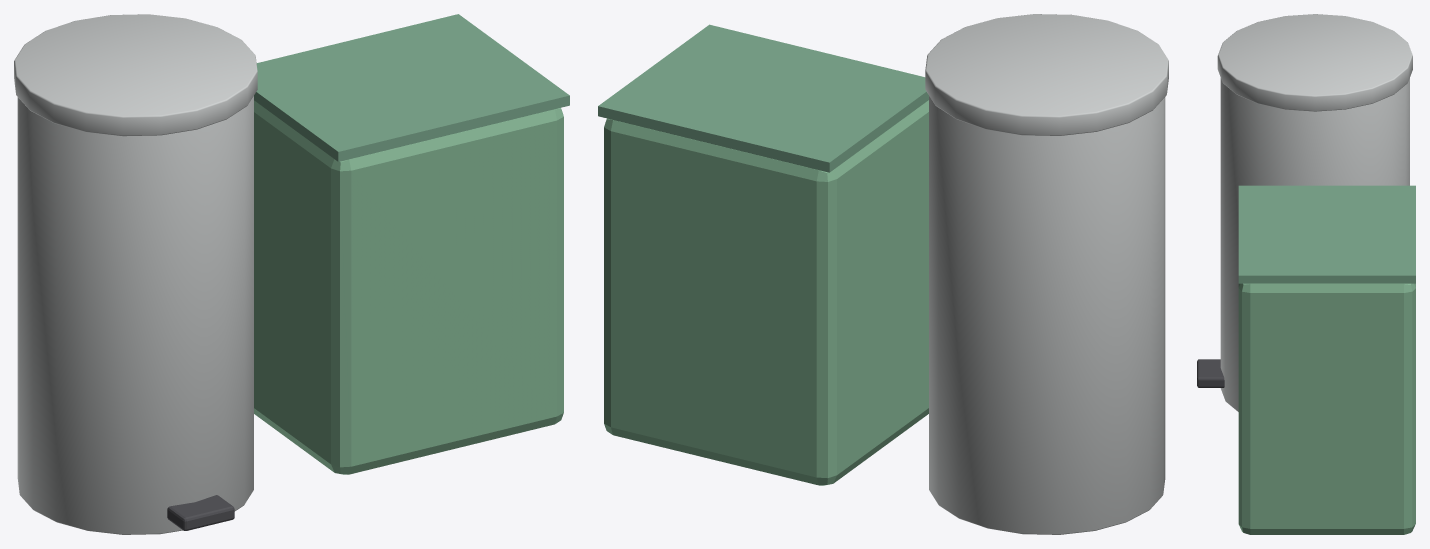
The model's file is v2_kitchen_bins.fbx.
3 renders of one model, left to right at view 1: azimuth 30°, elevation 25°; view 2: azimuth 150°, elevation 25°; view 3: azimuth 270°, elevation 25°, orthographic. The views are drawn at different scales.
Parts seen in each view (by area): view 1: Recycle, PedalBin, RecycleTop, PedalLid, Pedal; view 2: Recycle, PedalBin, RecycleTop, PedalLid; view 3: Recycle, PedalBin, RecycleTop, PedalLid, Pedal.
Boxes of the visible parts, <box> form: Recycle: <box>254,100,563,474</box>; PedalBin: <box>17,96,253,534</box>; RecycleTop: <box>254,14,569,161</box>; PedalLid: <box>14,14,257,136</box>; Pedal: <box>167,495,234,530</box>; Recycle: <box>604,100,928,485</box>; PedalBin: <box>929,96,1165,534</box>; RecycleTop: <box>598,24,928,172</box>; PedalLid: <box>925,14,1168,135</box>; Recycle: <box>1238,283,1415,534</box>; PedalBin: <box>1220,78,1409,411</box>; RecycleTop: <box>1238,185,1415,283</box>; PedalLid: <box>1217,14,1412,111</box>; Pedal: <box>1197,359,1224,387</box>.
Bounding box in the file's own units: 0.765 × 0.625 × 0.37.
